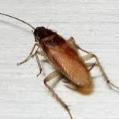cockroach: (34, 26, 92, 94)
